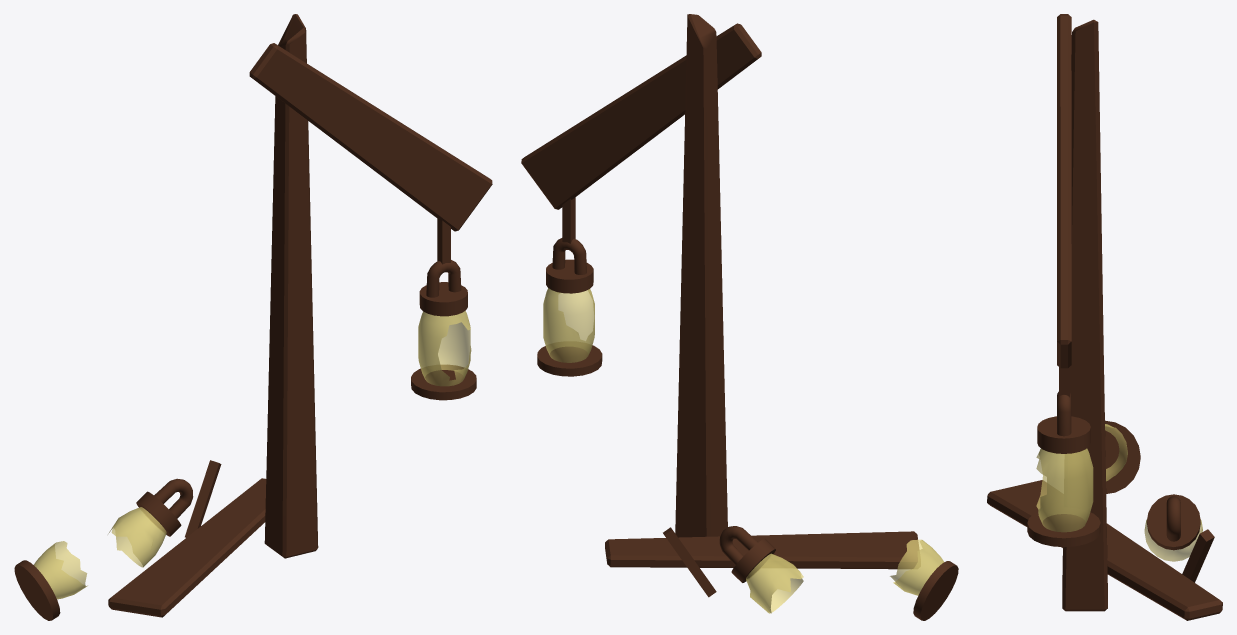
File: Lamp 2.fbx
The picture shows the model from 3 angles, left to right: view 1: azimuth 30°, elevation 25°; view 2: azimuth 150°, elevation 25°; view 3: azimuth 270°, elevation 25°; orthographic projection. The views are drawn at different scales.
Visible parts, largest first — view 1: polySurface691; view 2: polySurface691; view 3: polySurface691.
Boxes of the visible parts, box(x1,y1,x2,y2) form: polySurface691: box(14, 14, 492, 620); polySurface691: box(521, 14, 958, 620); polySurface691: box(987, 14, 1222, 620).
Size of the model in its own units: 12.54 by 14.62 by 5.14.
